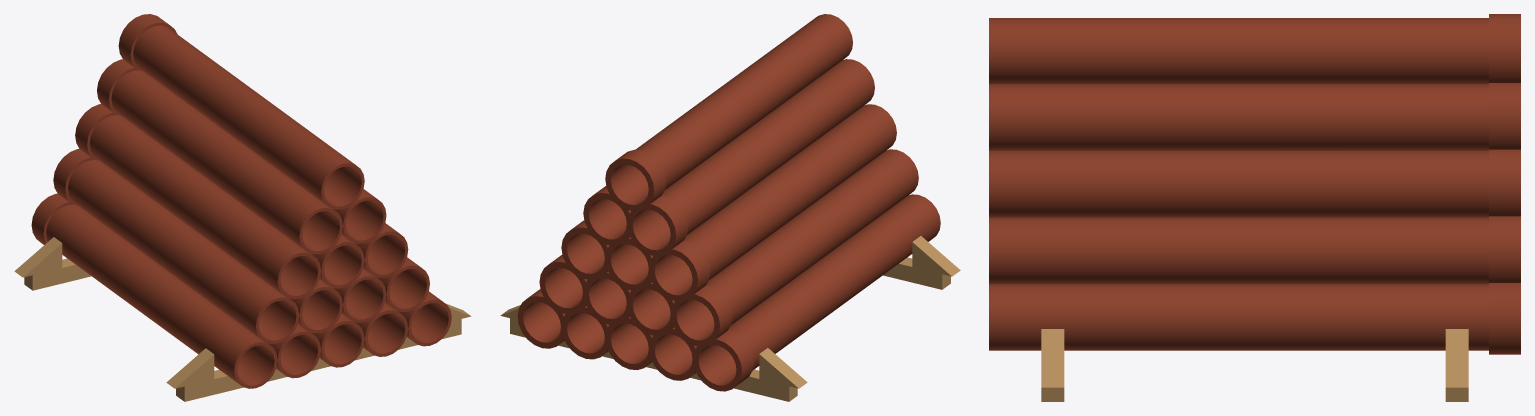
Rendered from plant.store.clay_pipes.glb.
3 views of the same model, side by side, from view 1: azimuth 30°, elevation 25°; view 2: azimuth 150°, elevation 25°; view 3: azimuth 270°, elevation 25° (orthographic). The views are drawn at different scales.
Parts seen in each view (by area): view 1: main__clay_tile, main__softwood; view 2: main__clay_tile, main__softwood; view 3: main__clay_tile, main__softwood.
Part boxes in pixels (x1,y1,x2,y2): main__clay_tile: [31, 14, 451, 388]; main__softwood: [14, 237, 471, 401]; main__clay_tile: [517, 14, 940, 391]; main__softwood: [500, 236, 960, 401]; main__clay_tile: [989, 14, 1520, 354]; main__softwood: [1041, 329, 1468, 401].
Size of the model in its own units: 1.5 by 1.07 by 1.75.
